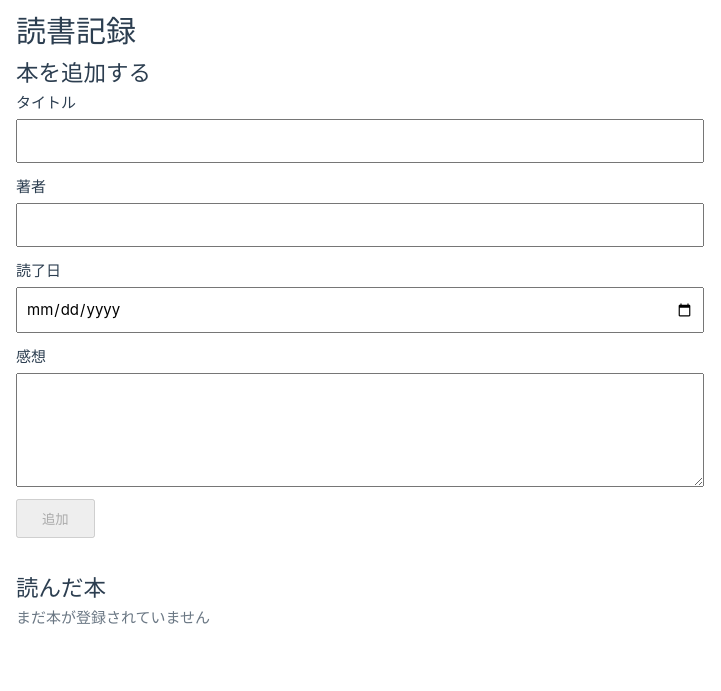
Test: App › 追加に失敗するとエラーを表示し、フォームの入力を残す
The image size is (721, 691).
Type "こころ" into the field named "title".
click(360, 141); type("こころ")  # box [16,119,704,163]
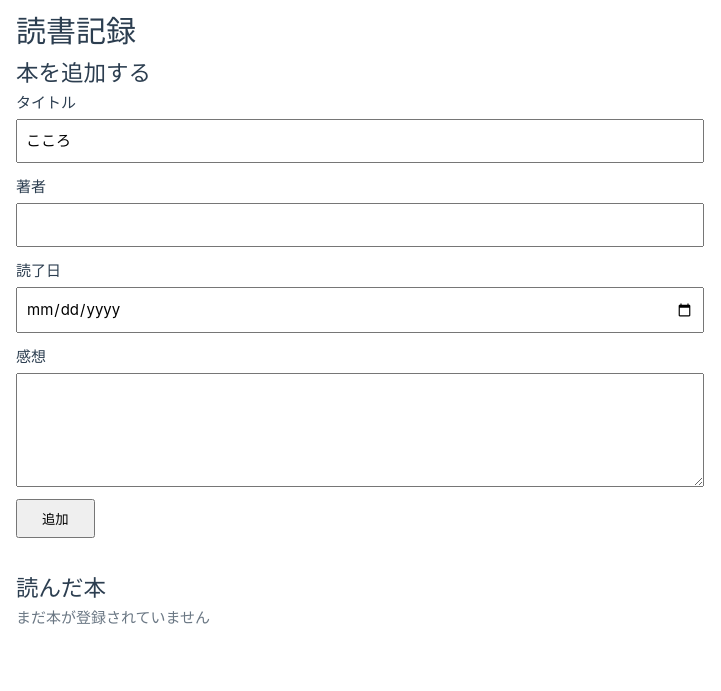
Submit the form
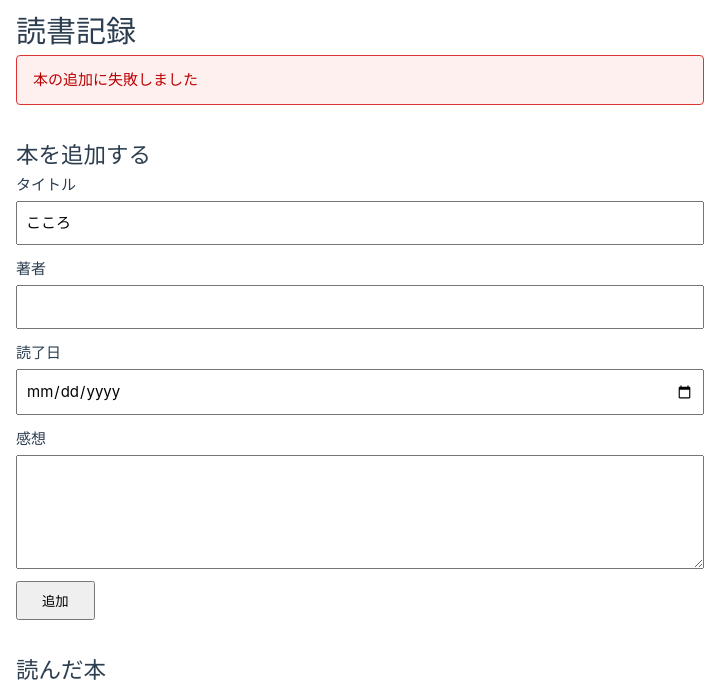
Expected: the message "本の追加に失敗しました" is shown, [16,55,704,105]
